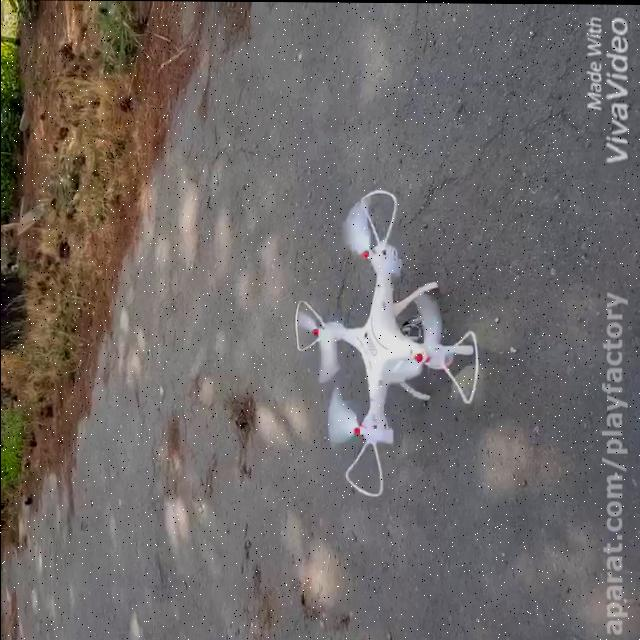drone: (288, 185, 484, 500)
